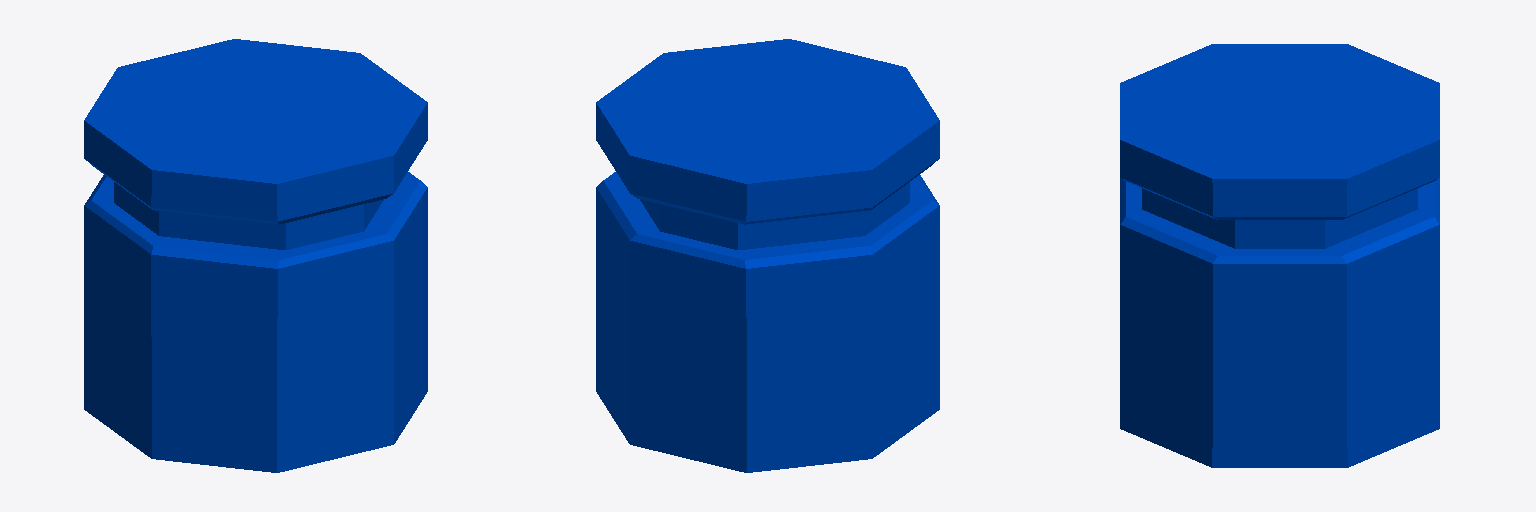
The model's file is blue_shape.obj.
The picture shows the model from 3 angles: view 1: azimuth 30°, elevation 25°; view 2: azimuth 150°, elevation 25°; view 3: azimuth 270°, elevation 25°; orthographic projection.
Visible parts, largest first — view 1: Cube; view 2: Cube; view 3: Cube.
Part boxes in pixels (x1,y1,x2,y2): Cube: (84,39,427,472); Cube: (596,39,939,472); Cube: (1120,44,1439,467).
Size of the model in its own units: 2 by 2 by 2.